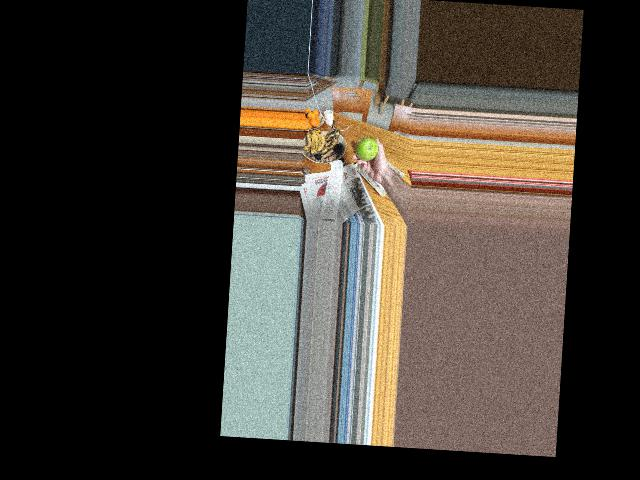apple: (355, 136, 380, 162)
